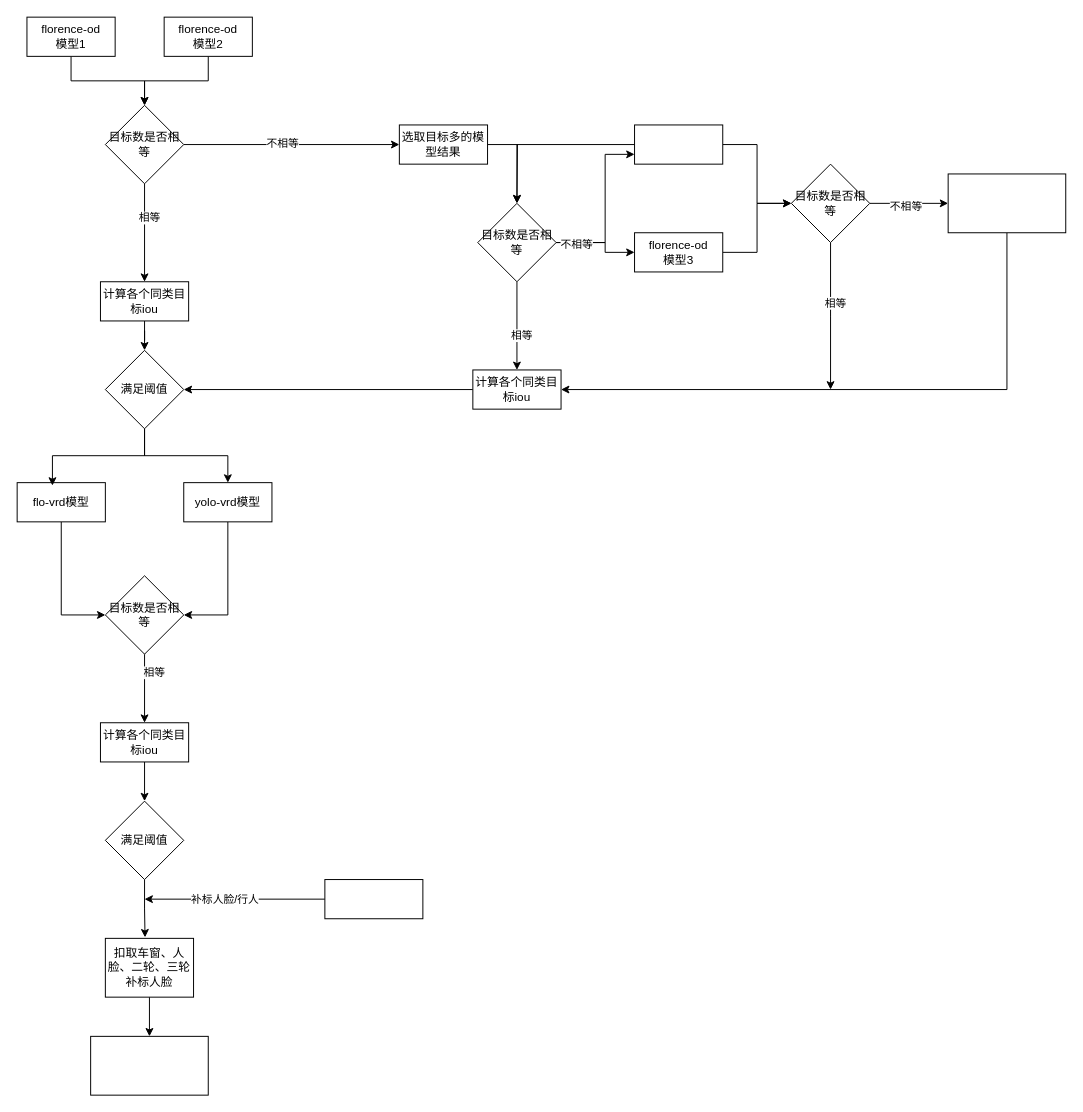
This 1083x1112 diagram has some shape labels left out. The shapes that lost their labels are listed below. From the top down, each one's centre as x and y in pixels, then its label:
At (678,144): "yolo-od".
At (1006,203): "计算四个模型目标数，有两个模型结果目标数相等，且大于最小的模型结果目标".
At (373,899): "florence 原始基础模型".
At (149,1065): "入库".
